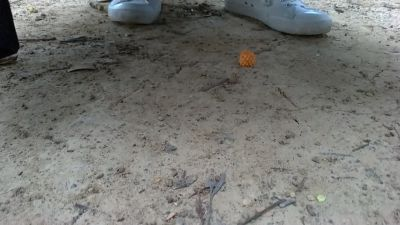eggs: (238, 46, 260, 70)
